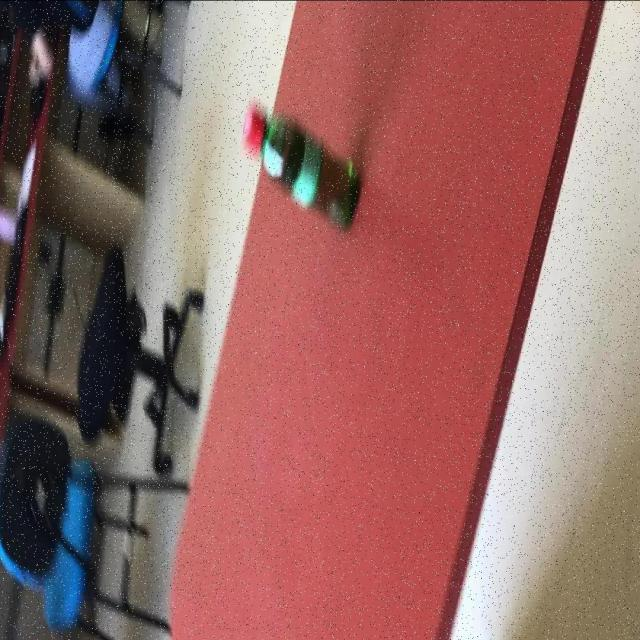Guarana: (240, 99, 360, 230)
